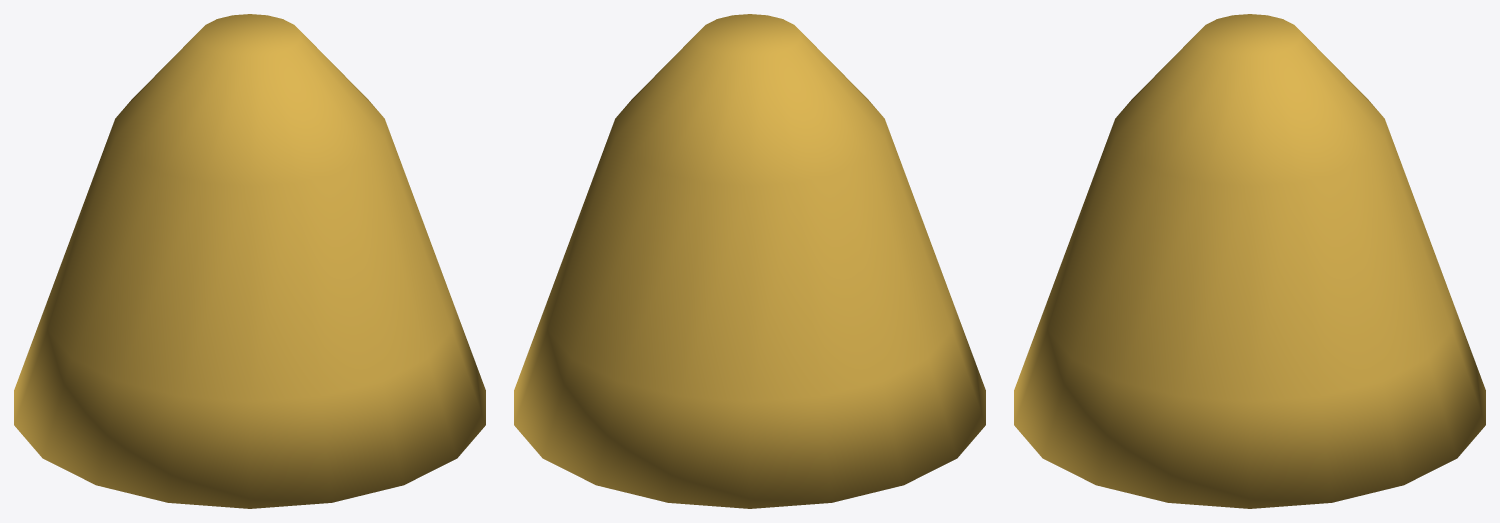
The model's file is icon_bell.glb.
3 renders of one model, left to right at view 1: azimuth 30°, elevation 25°; view 2: azimuth 150°, elevation 25°; view 3: azimuth 270°, elevation 25°, orthographic.
Parts seen in each view (by area): view 1: bell; view 2: bell; view 3: bell.
Boxes of the visible parts, <box> form: bell: <box>14,14,485,508</box>; bell: <box>514,14,985,508</box>; bell: <box>1014,14,1485,508</box>.
Bounding box in the file's own units: 0.28 × 0.24 × 0.2757.
